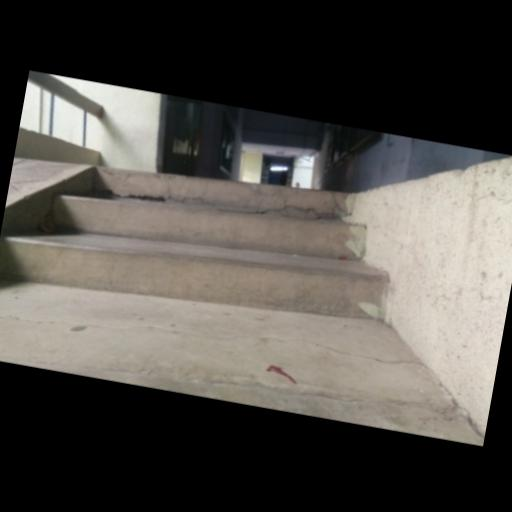stairs: (0, 171, 387, 318)
